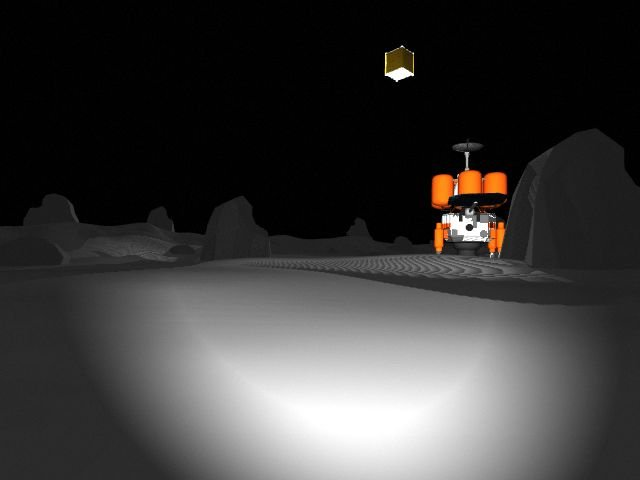cubesat: (381, 40, 416, 89)
